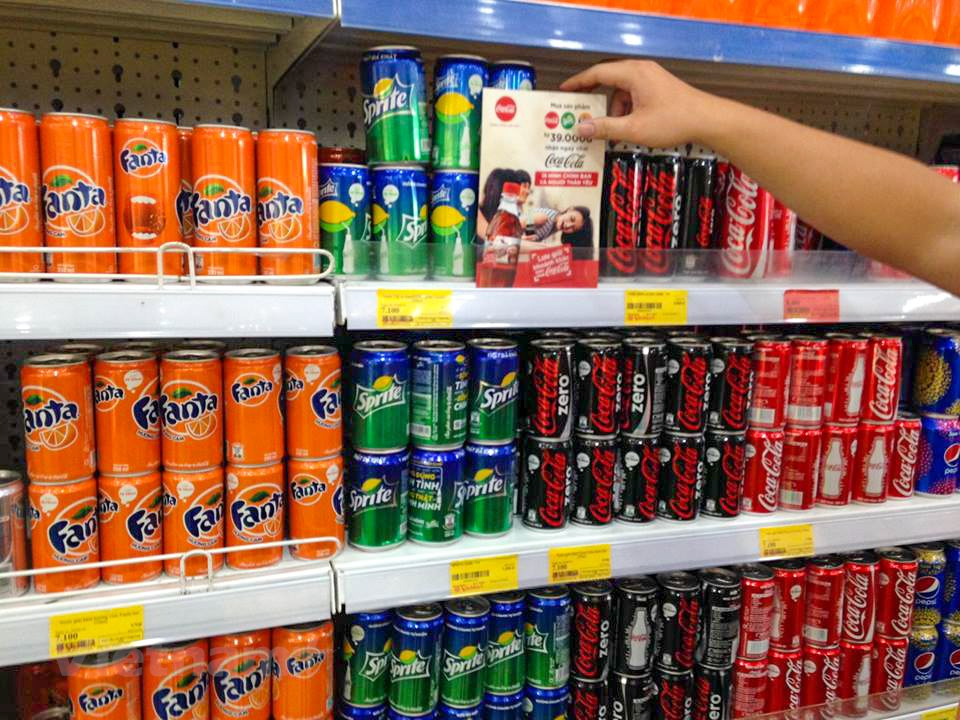cocacola: (720, 161, 758, 280), (641, 165, 675, 276), (610, 160, 639, 275), (868, 342, 899, 423), (674, 352, 703, 437), (528, 357, 558, 437), (538, 447, 566, 528), (720, 354, 749, 432), (587, 353, 615, 433), (669, 443, 695, 519), (573, 605, 600, 678), (588, 447, 613, 525), (718, 442, 744, 516), (842, 569, 868, 641), (893, 426, 920, 495), (758, 435, 782, 510), (542, 152, 590, 171)
fanta: (212, 659, 272, 709), (149, 671, 208, 720), (42, 179, 106, 224), (192, 191, 251, 230), (230, 493, 283, 535), (160, 391, 216, 429), (120, 141, 168, 176), (78, 689, 124, 715), (232, 380, 275, 406), (285, 651, 325, 678), (292, 479, 324, 504)
pepsi: (916, 577, 939, 599), (939, 444, 960, 468), (915, 649, 935, 674), (950, 650, 960, 669)
sprite: (362, 87, 410, 124), (352, 384, 406, 415), (477, 383, 520, 413), (348, 486, 395, 512), (444, 653, 482, 683), (390, 654, 428, 680), (488, 637, 523, 664)
